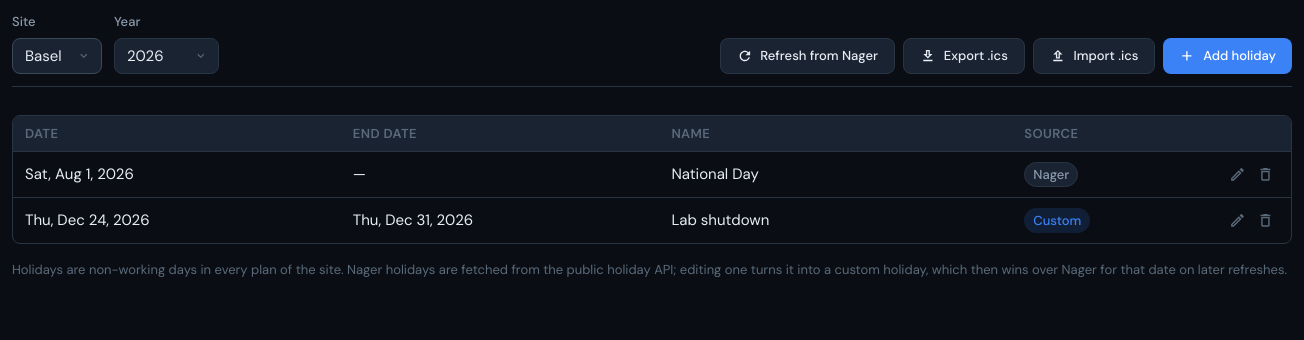
Test: BankHolidaysPanel list › shows this year's holidays sorted, with their source and multi-day end
Expected: the text "National Day" is shown, x1=659 y1=152 x2=1012 y2=197
Expected: the text "Nager" is shown, x1=1024 y1=162 x2=1078 y2=187
Select "All years" in the dropdown labelled "Year": (166, 56) x1=114 y1=38 x2=219 y2=74
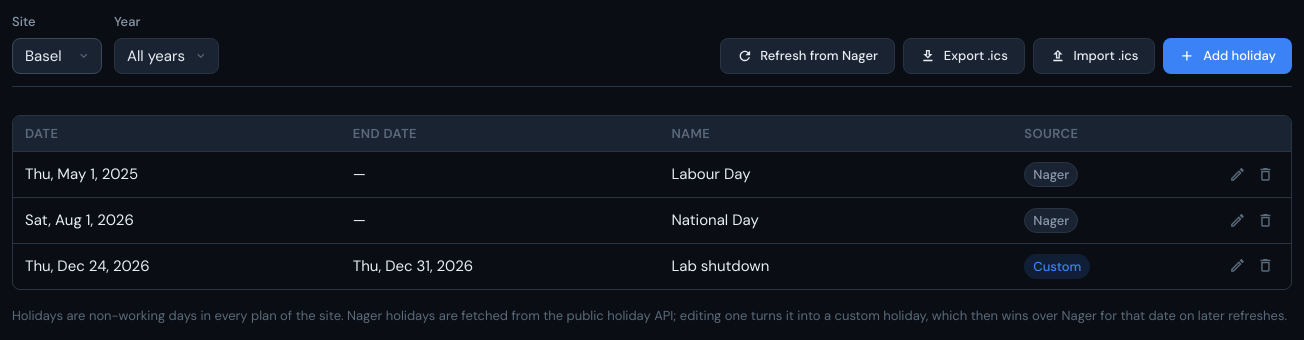
Now the text "Labour Day" is shown, box x1=659 y1=152 x2=1012 y2=197
Select "2025" in the dropdown labelled "Year": (166, 56) x1=114 y1=38 x2=219 y2=74
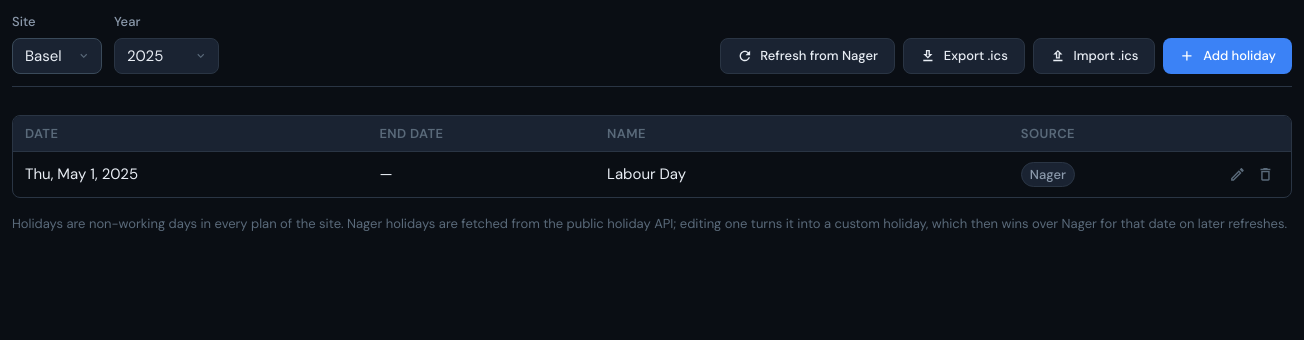
Now the text "National Day" is gone
